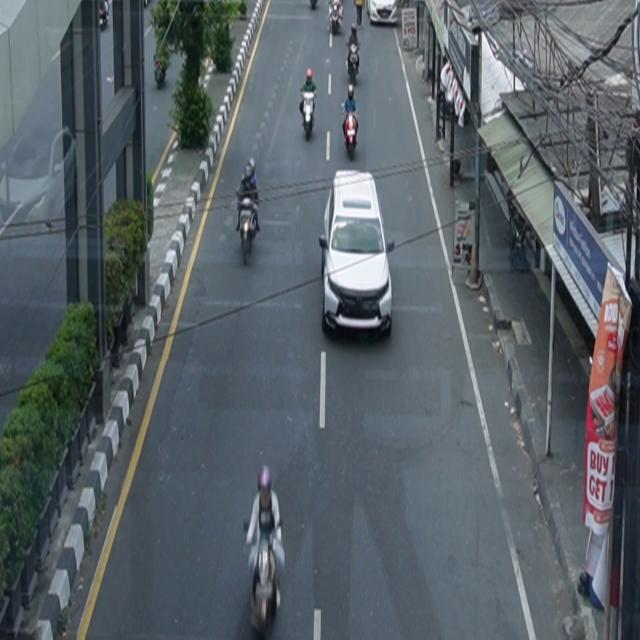car: (319, 170, 394, 340)
